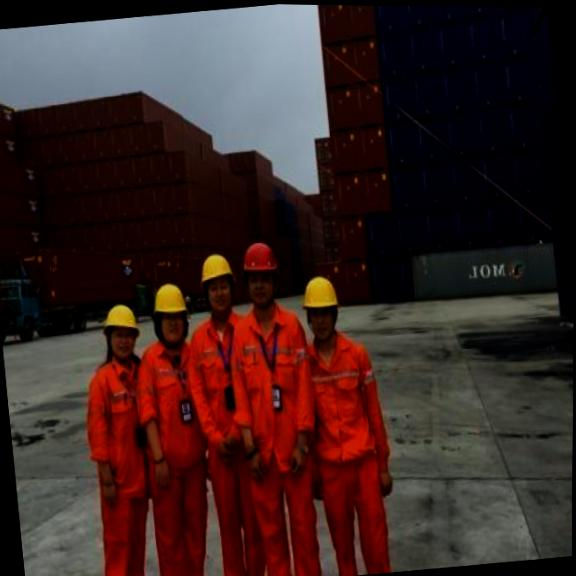safety_vest: (233, 310, 307, 475), (134, 335, 208, 489), (82, 363, 149, 509), (194, 326, 249, 476), (313, 346, 371, 476)
